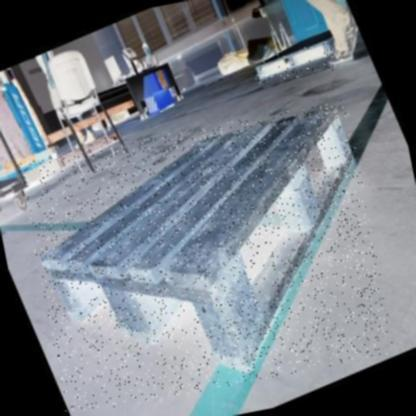pallet: (41, 105, 353, 369)
